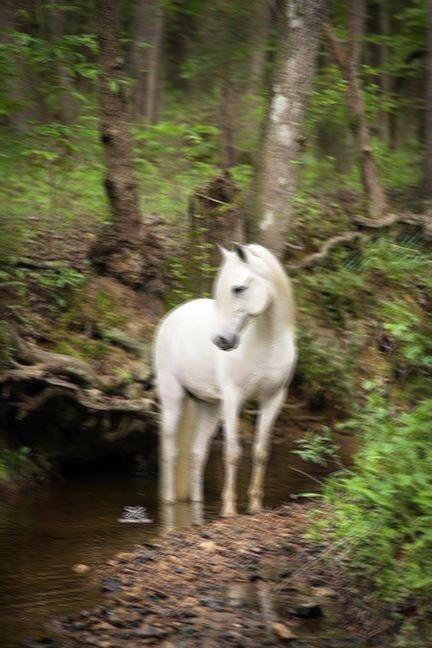horse: (152, 239, 298, 518)
